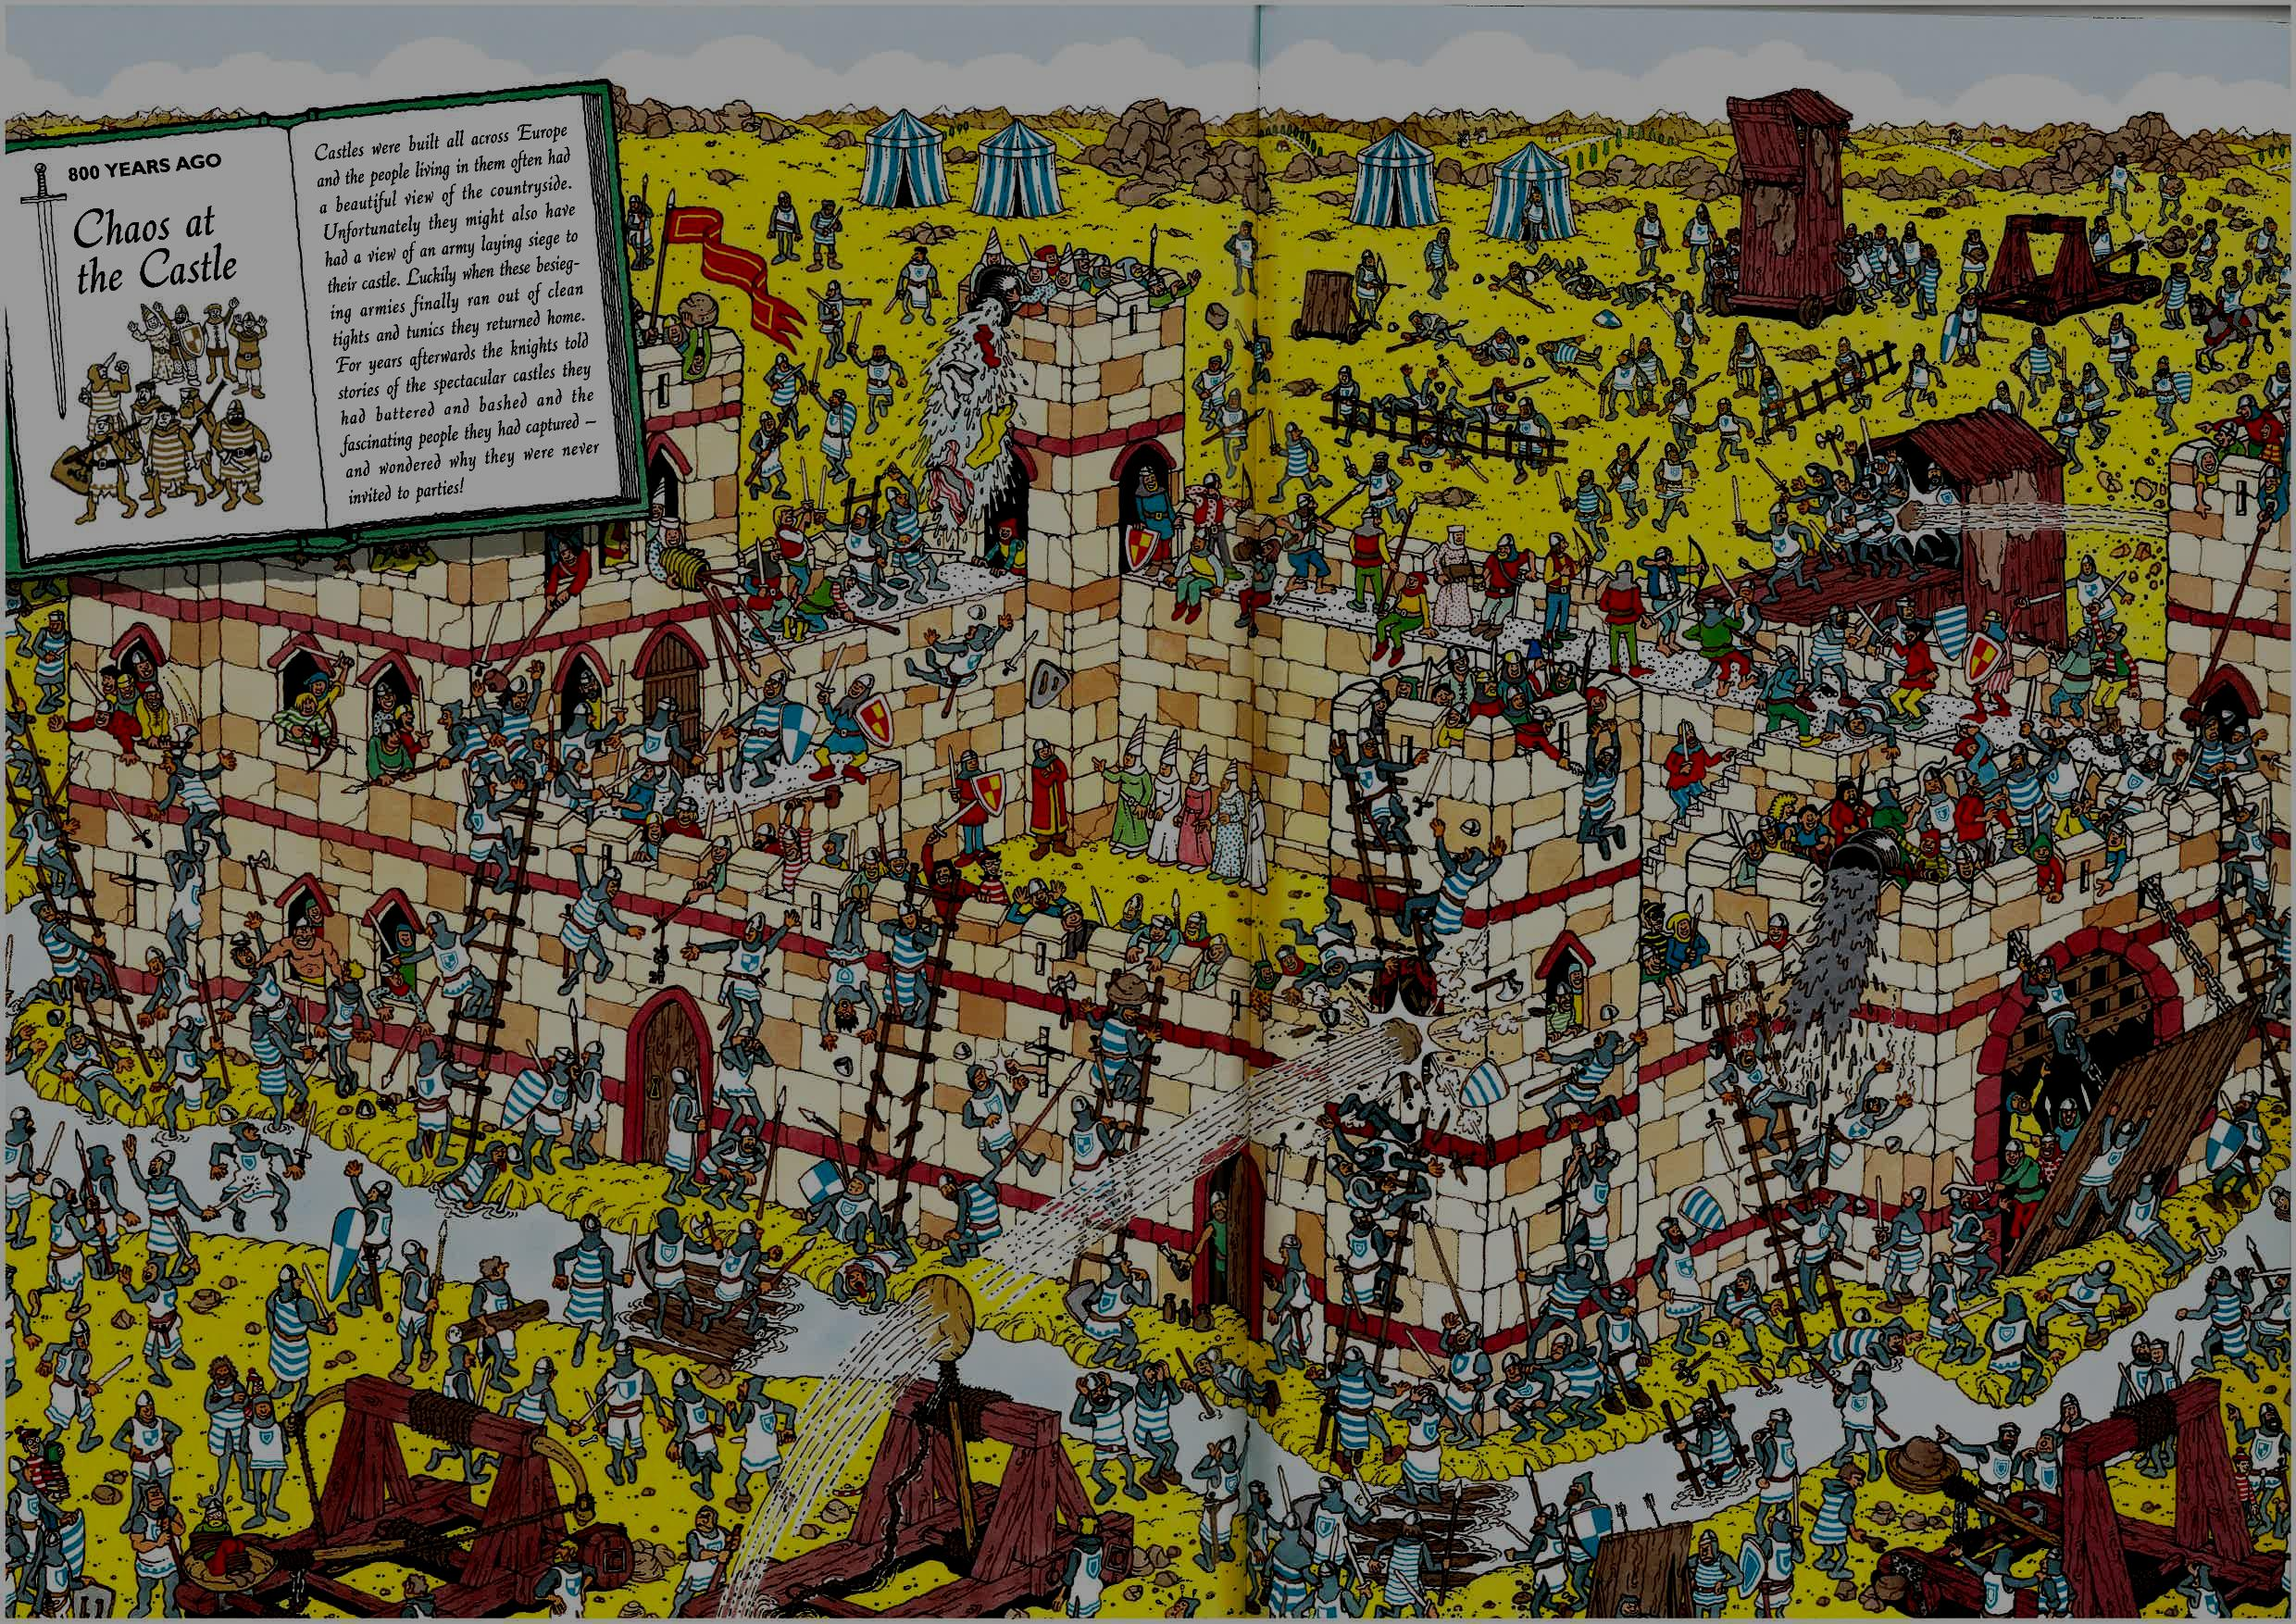waldos: (12, 1422, 72, 1519)
